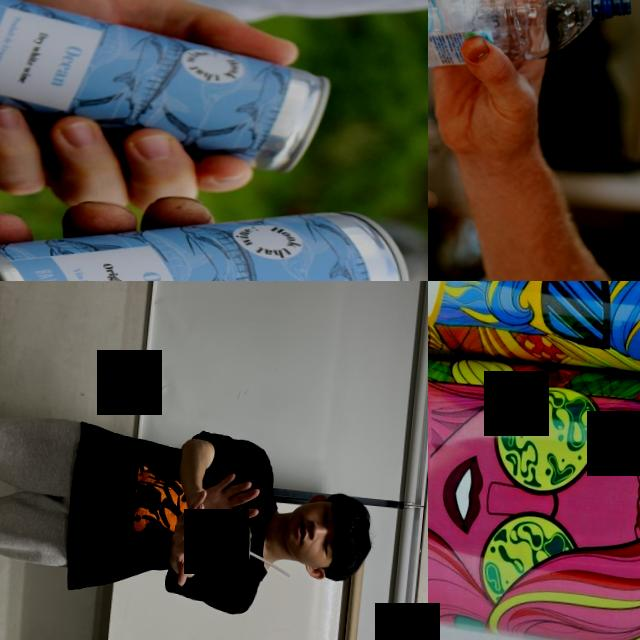bottle: (428, 0, 637, 105)
can: (428, 332, 640, 640), (0, 0, 337, 173), (0, 176, 414, 281), (428, 281, 640, 386), (183, 518, 255, 566)
